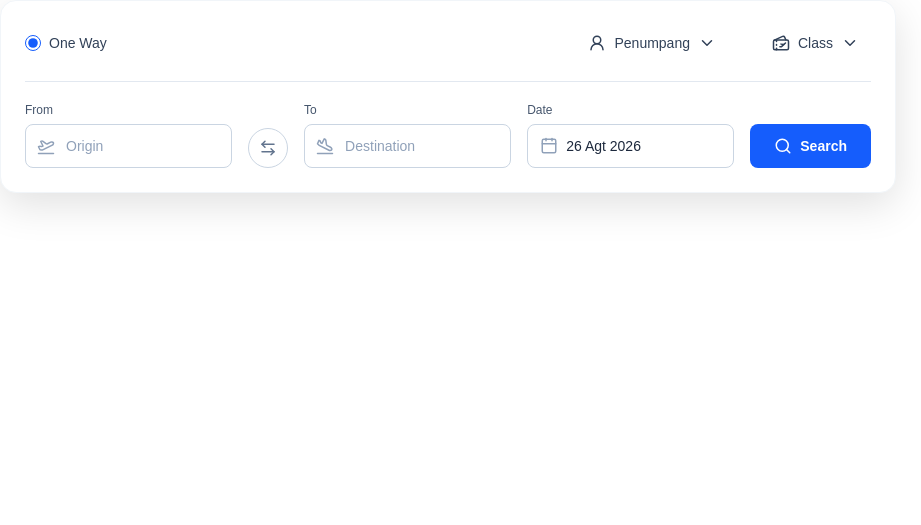
it: InputFlight (flight) › defaults the date label to today and opens the calendar on click
Click the button named "Date" at (631, 146), box left=527, top=124, right=734, bottom=168
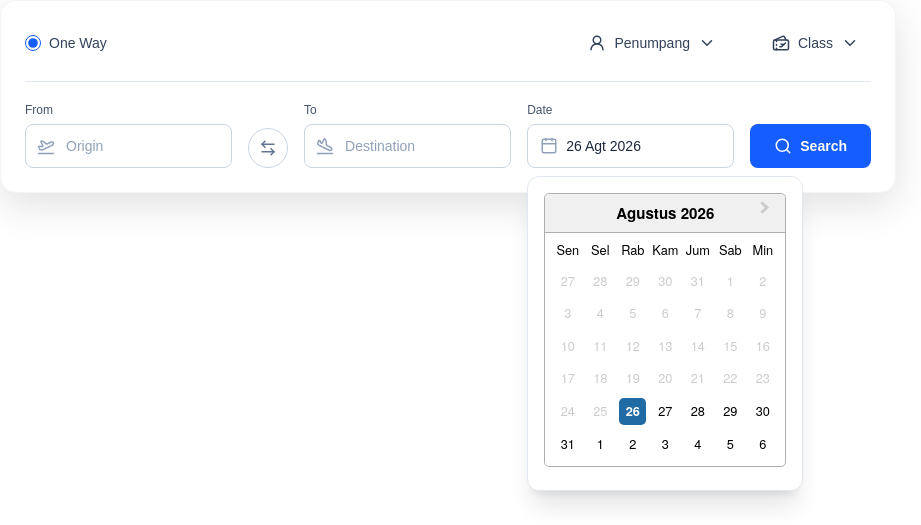
Expected: the element with class "react-datepicker" is shown, left=544, top=193, right=786, bottom=467
